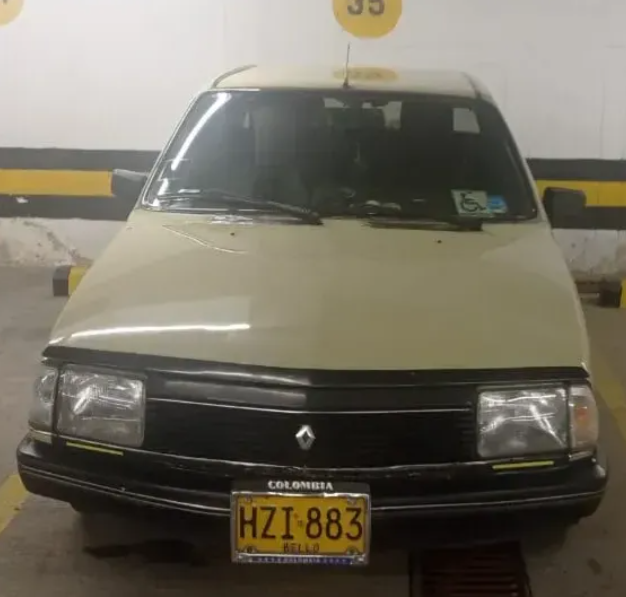placa: (230, 490, 372, 565)
